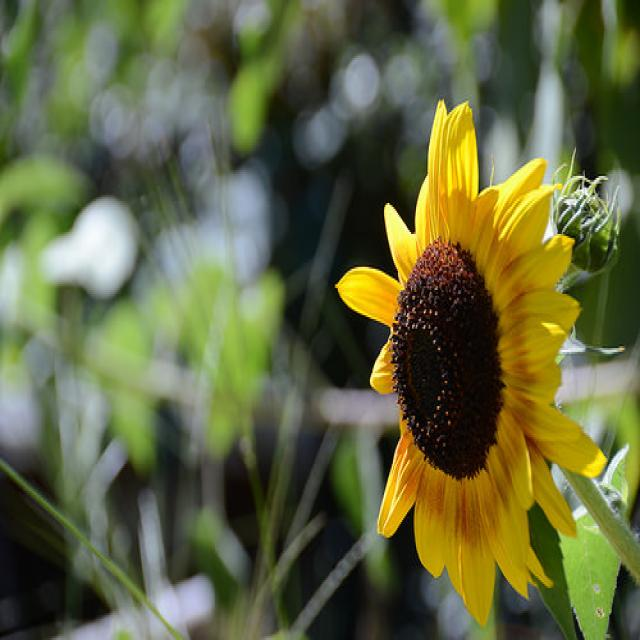sunflower: (333, 89, 613, 634)
